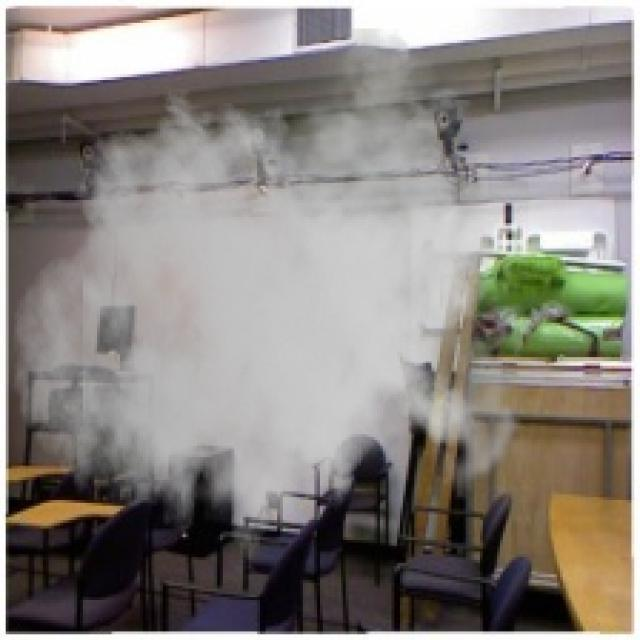Smoke: (11, 28, 528, 583)
